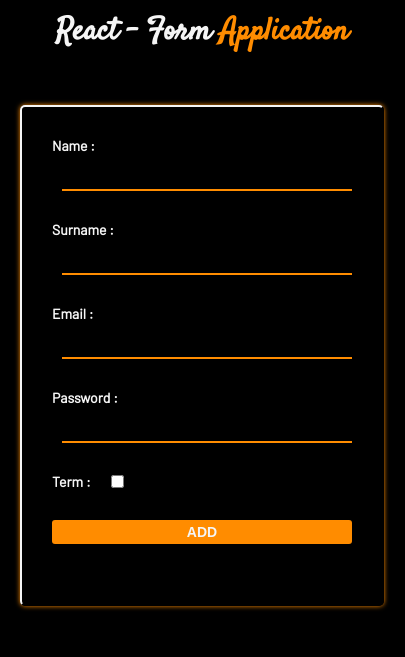
Form_Validation Testing › NameInput - Testing
Type "Me" into the field with id "name".
click(207, 180); type("Me")  # box [62,169,352,191]
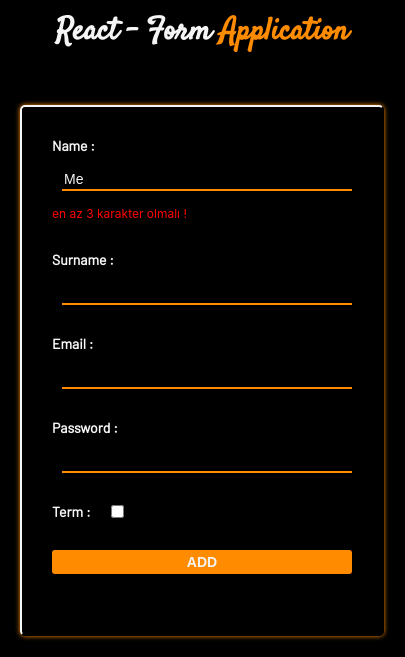
Expected: the text "en az 3 karakter olmalı !" is shown, [52,206,187,221]
